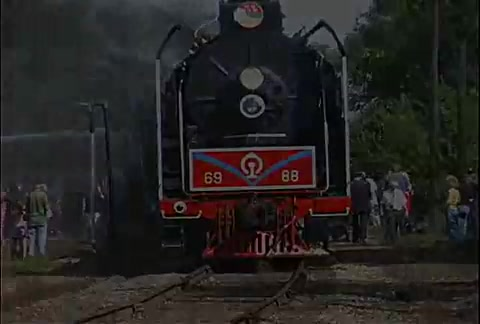train: (112, 1, 373, 266)
